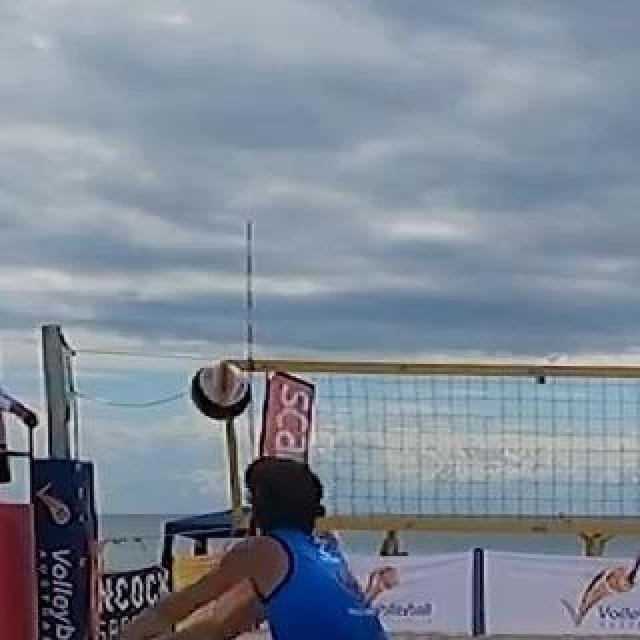volleyball: (189, 363, 249, 421)
